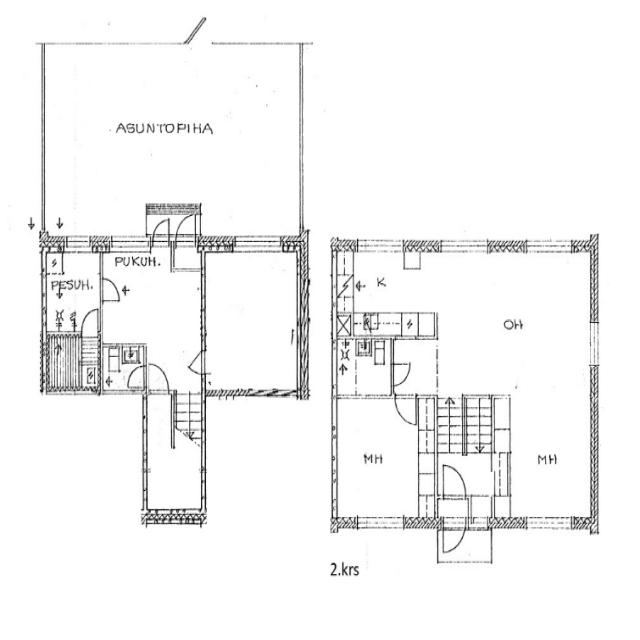door: (438, 459, 469, 502), (441, 520, 467, 555), (146, 359, 171, 393), (394, 392, 418, 427), (99, 274, 123, 305), (175, 211, 198, 243), (390, 358, 414, 388), (150, 216, 172, 248), (80, 305, 102, 336), (126, 362, 146, 390), (188, 350, 208, 378)
window: (294, 264, 313, 334), (525, 237, 574, 264), (232, 233, 283, 257), (585, 316, 603, 371), (110, 234, 152, 253), (199, 465, 208, 502)
zone: (430, 253, 592, 393), (202, 250, 301, 394), (498, 387, 594, 527), (331, 395, 433, 526), (100, 253, 205, 350), (335, 249, 429, 333), (144, 393, 206, 519), (44, 248, 102, 335), (332, 332, 394, 394), (46, 333, 99, 392), (102, 345, 145, 392)
